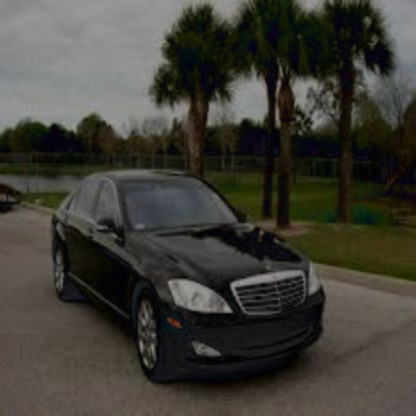Vehicle: (52, 167, 330, 371)
